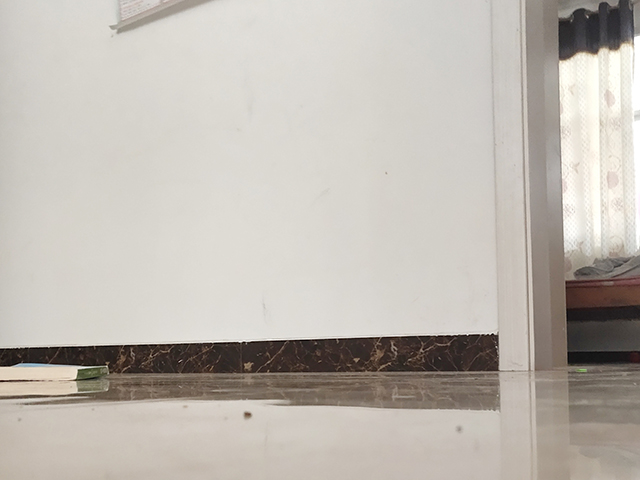bed: (565, 255, 640, 365)
book: (1, 362, 111, 383)
curtain: (560, 2, 640, 262)
